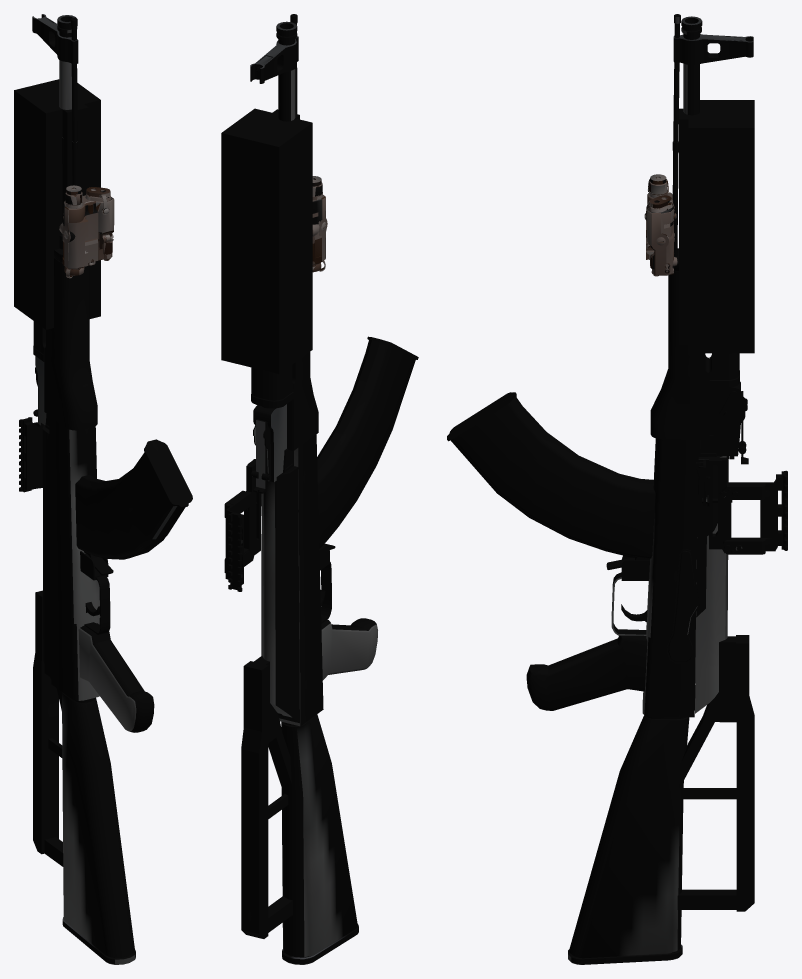
The model's file is AK47__Handguard_AK_Quad__Laser_Rifle__Mount_AK_SideRail__Stock_AK_Folding.fbx.
3 views of the same model, side by side, from view 1: azimuth 30°, elevation 25°; view 2: azimuth 150°, elevation 25°; view 3: azimuth 270°, elevation 25° (orthographic). The views are drawn at different scales.
Parts seen in each view (by area): view 1: asset_AK47.001; view 2: asset_AK47.001; view 3: asset_AK47.001.
Boxes of the visible parts, x1,y1,x2,y2 form: asset_AK47.001: [14, 14, 192, 964]; asset_AK47.001: [221, 14, 418, 964]; asset_AK47.001: [447, 14, 787, 964].
Size of the model in its own units: 0.0336 by 0.528 by 0.173.
